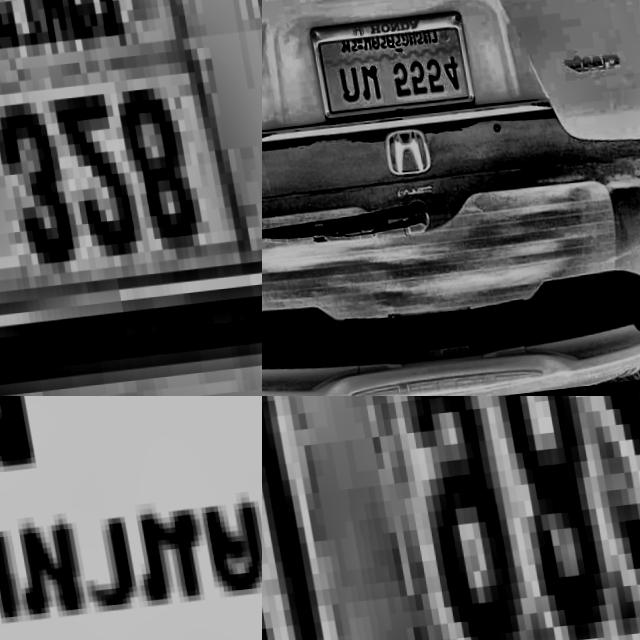license-plate: (0, 0, 262, 396), (262, 396, 640, 640), (0, 396, 262, 640), (302, 12, 472, 125)
